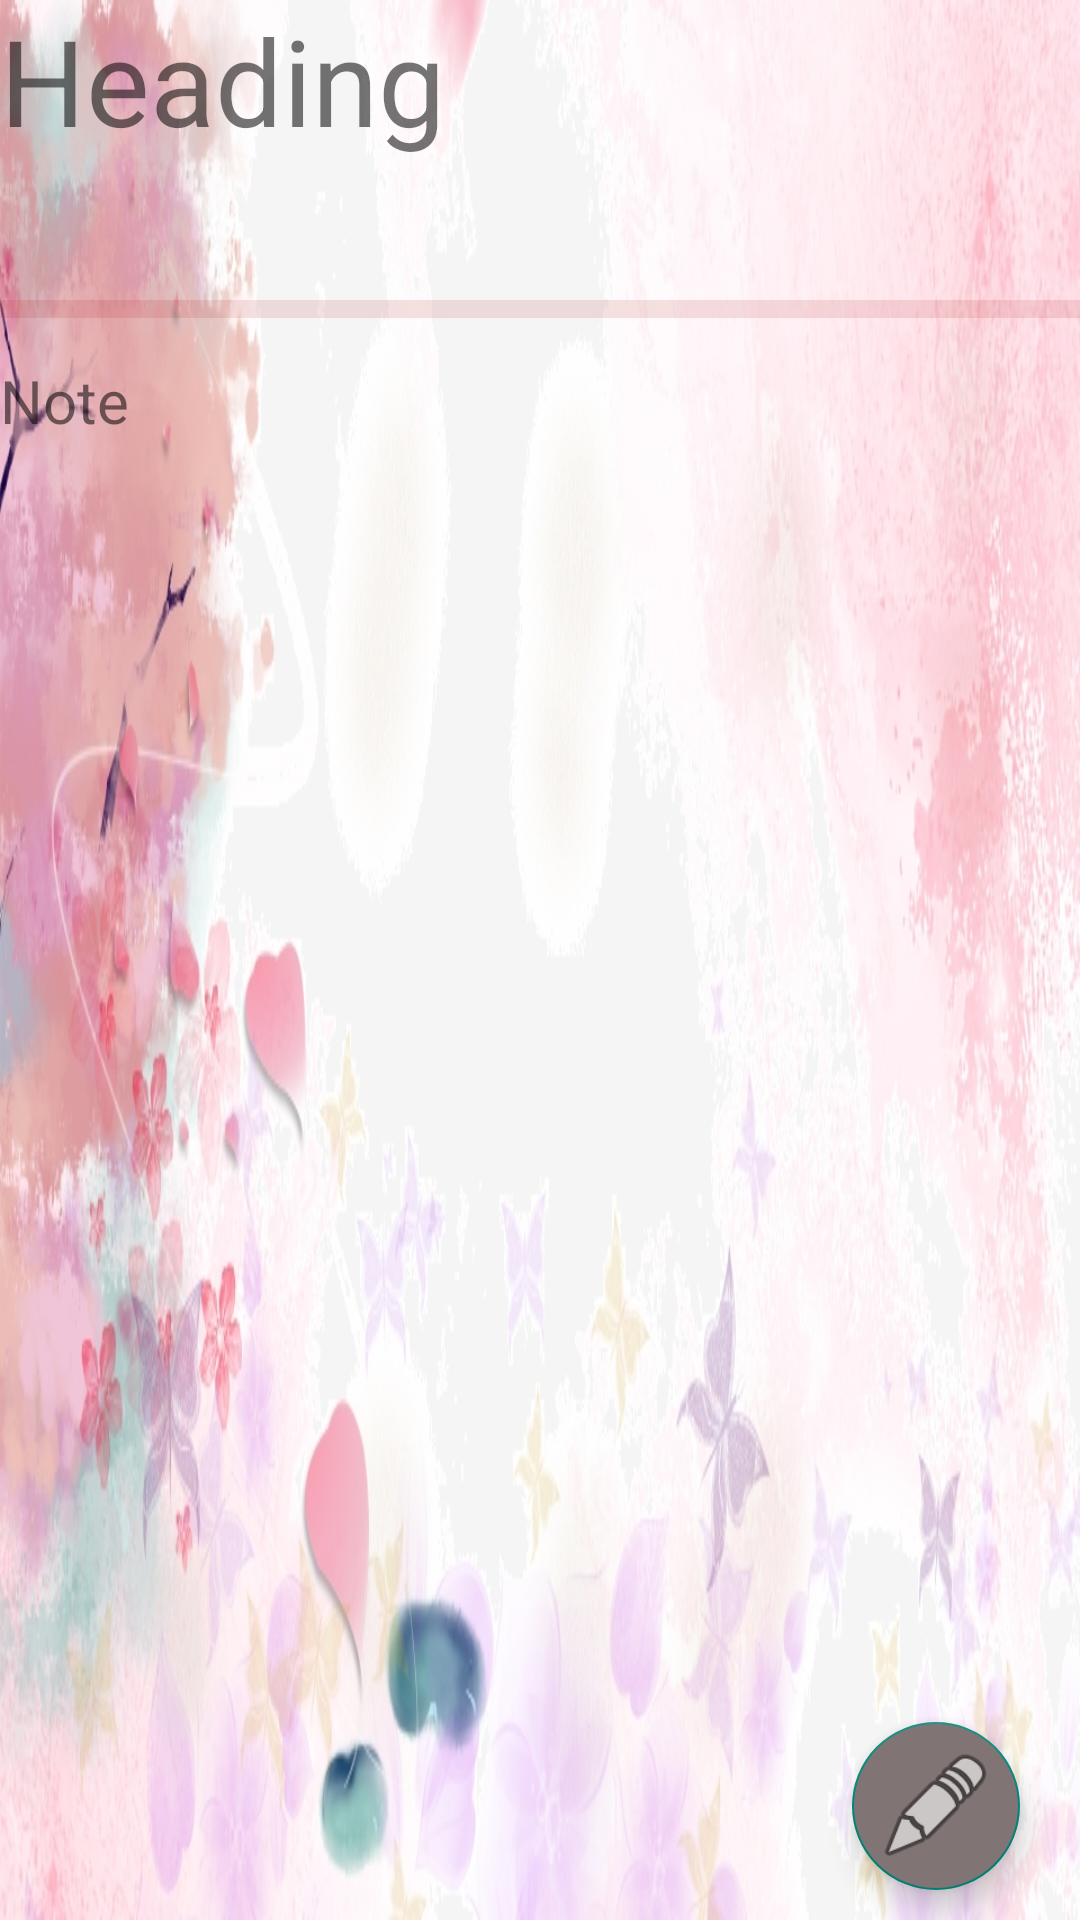

Named icons in this screenshot (1080 x 1920) and their bounding boxes, (x1, y1, x2, y2):
edit: (852, 1722, 1020, 1890)
